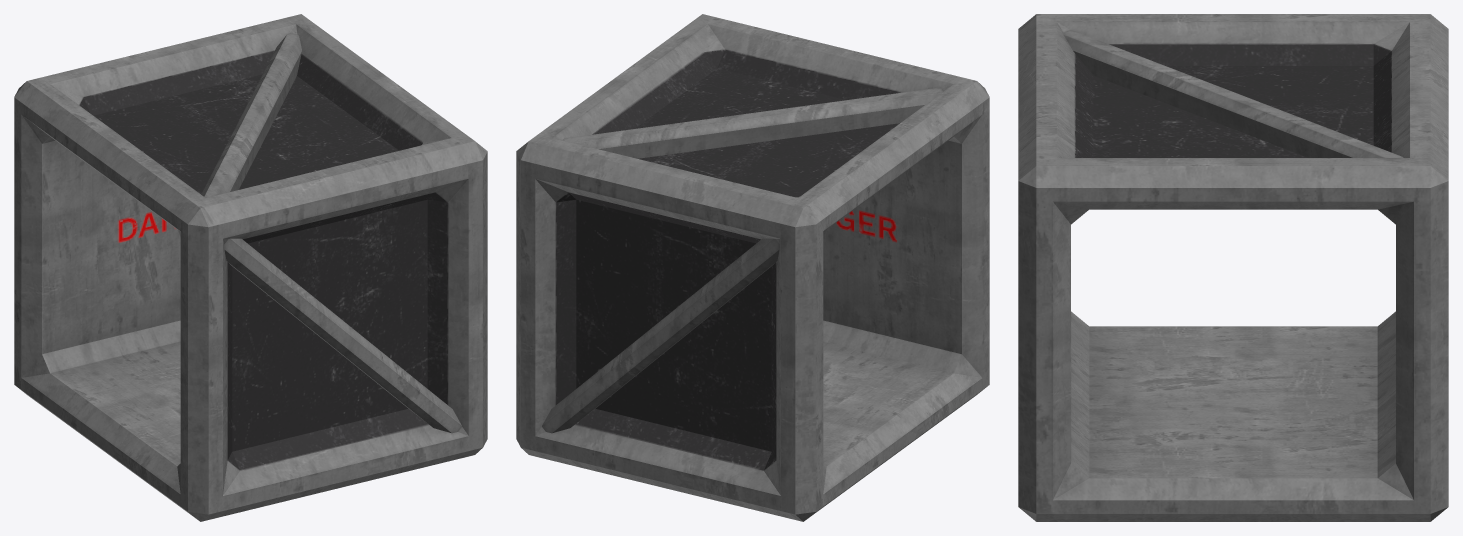
The model's file is empty box.fbx.
3 views of the same model, side by side, from view 1: azimuth 30°, elevation 25°; view 2: azimuth 150°, elevation 25°; view 3: azimuth 270°, elevation 25° (orthographic). The views are drawn at different scales.
Parts seen in each view (by area): view 1: empty box; view 2: empty box; view 3: empty box.
Boxes of the visible parts, x1,y1,x2,y2 form: empty box: (14, 14, 487, 521); empty box: (516, 14, 989, 521); empty box: (1018, 14, 1448, 521).
Size of the model in its own units: 1083 by 1083 by 1187.
